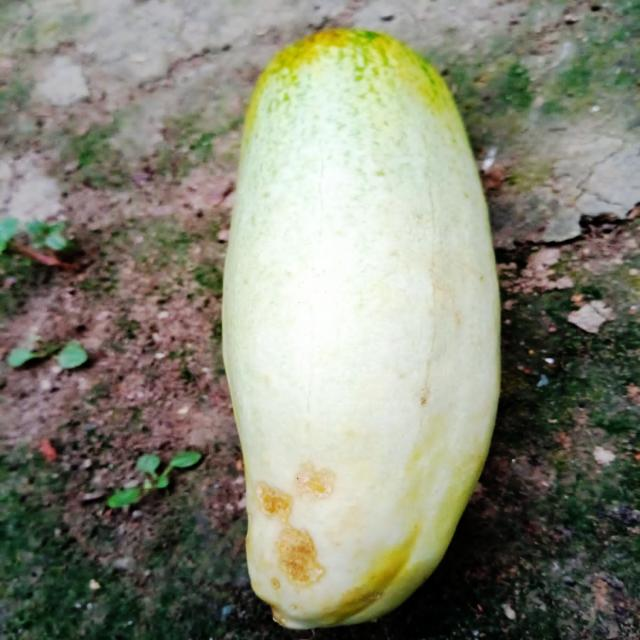Belly-Rot: (249, 450, 348, 598)
